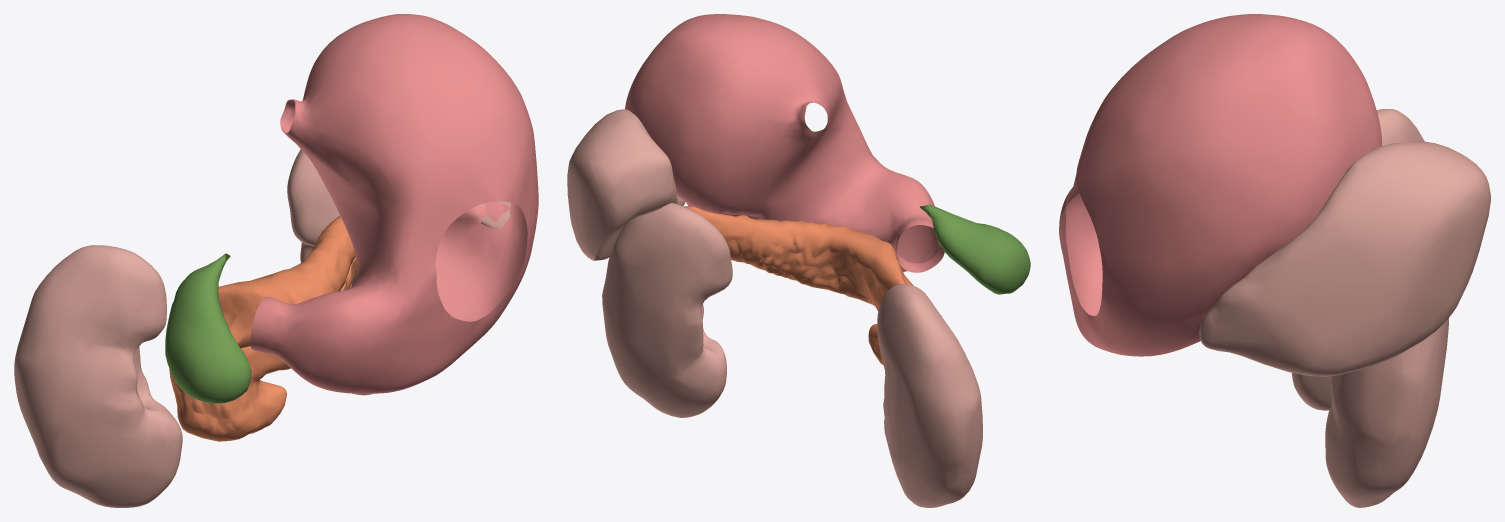
File: abdomen.glb
3 views of the same model, side by side, from view 1: azimuth 30°, elevation 25°; view 2: azimuth 150°, elevation 25°; view 3: azimuth 270°, elevation 25° (orthographic). The views are drawn at different scales.
Parts seen in each view (by area): view 1: Stomach, Kidney (right), Pancreas, Gallbladder, Kidney (left); view 2: Stomach, Kidney (left), Kidney (right), Pancreas, Spleen, Gallbladder; view 3: Stomach, Spleen, Kidney (left), Kidney (right).
Boxes of the visible parts, x1,y1,x2,y2 form: Stomach: (250, 14, 538, 393); Kidney (right): (14, 245, 182, 507); Pancreas: (169, 215, 357, 441); Gallbladder: (165, 253, 251, 403); Kidney (left): (287, 149, 373, 395); Stomach: (625, 14, 944, 272); Kidney (left): (602, 203, 732, 417); Kidney (right): (877, 284, 982, 507); Pancreas: (683, 206, 941, 365); Spleen: (567, 109, 685, 260); Gallbladder: (920, 204, 1030, 294); Stomach: (1059, 14, 1381, 356); Spleen: (1199, 141, 1490, 376); Kidney (left): (1325, 317, 1449, 507); Kidney (right): (1291, 109, 1424, 410).
Bounding box in the file's own units: 0.2014 × 0.1875 × 0.1408.
